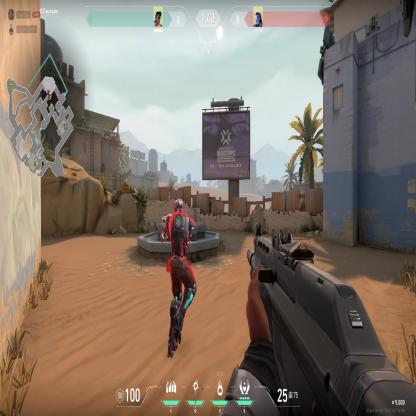enemy: (158, 196, 198, 338)
